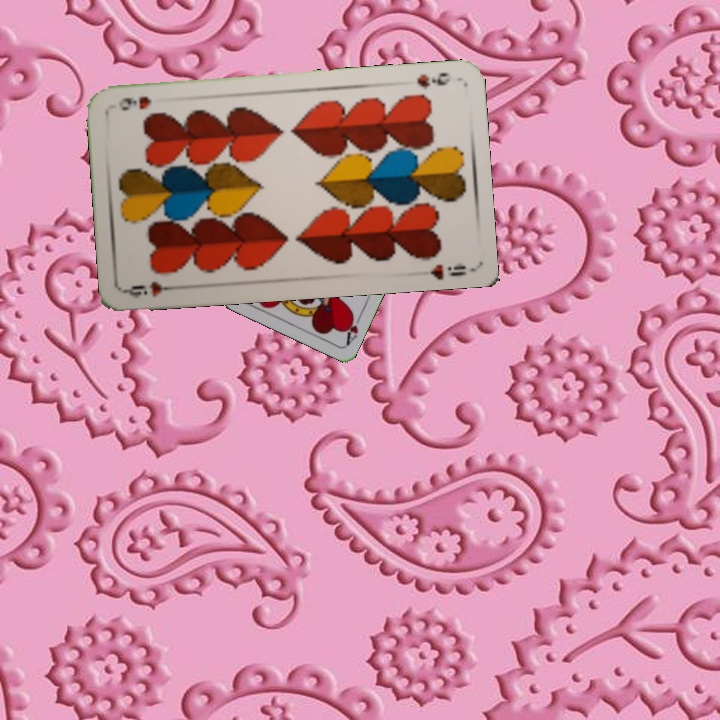H9: (123, 277, 183, 301), (412, 68, 453, 91)
HA: (341, 308, 365, 347)
